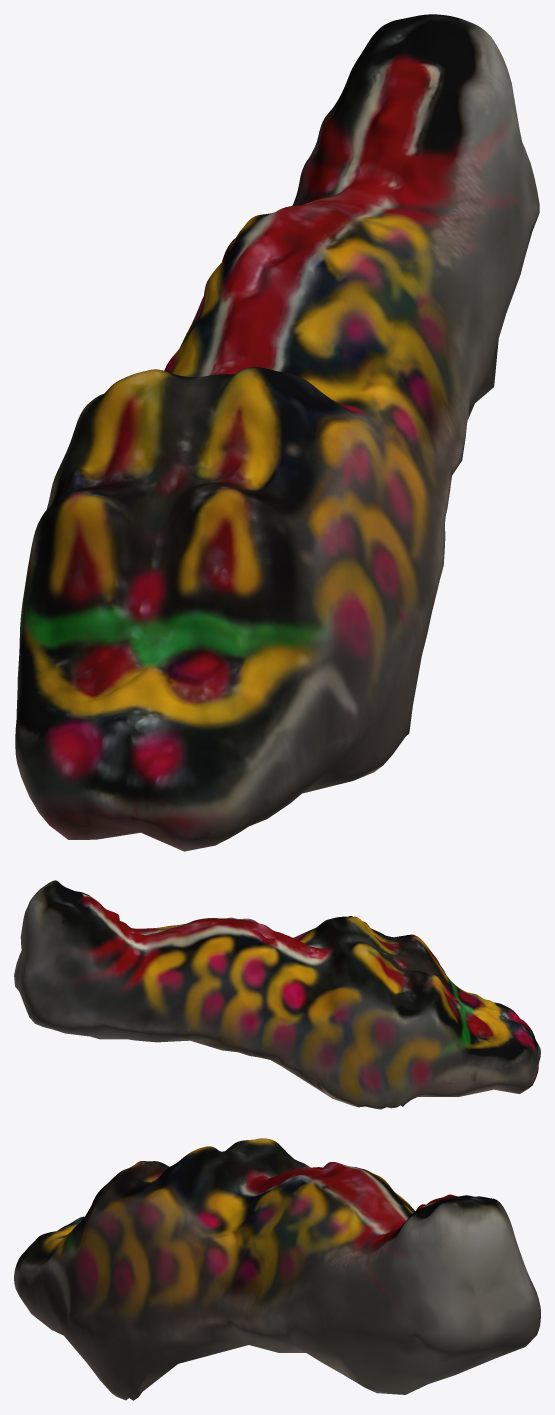
3 renders of one model, top to bottom at view 1: azimuth 30°, elevation 25°; view 2: azimuth 150°, elevation 25°; view 3: azimuth 270°, elevation 25°, orthographic. The views are drawn at different scales.
Bounding box in the file's own units: 0.7652 × 0.4519 × 0.7156.
Materials: 1 (1 with a texture image).
